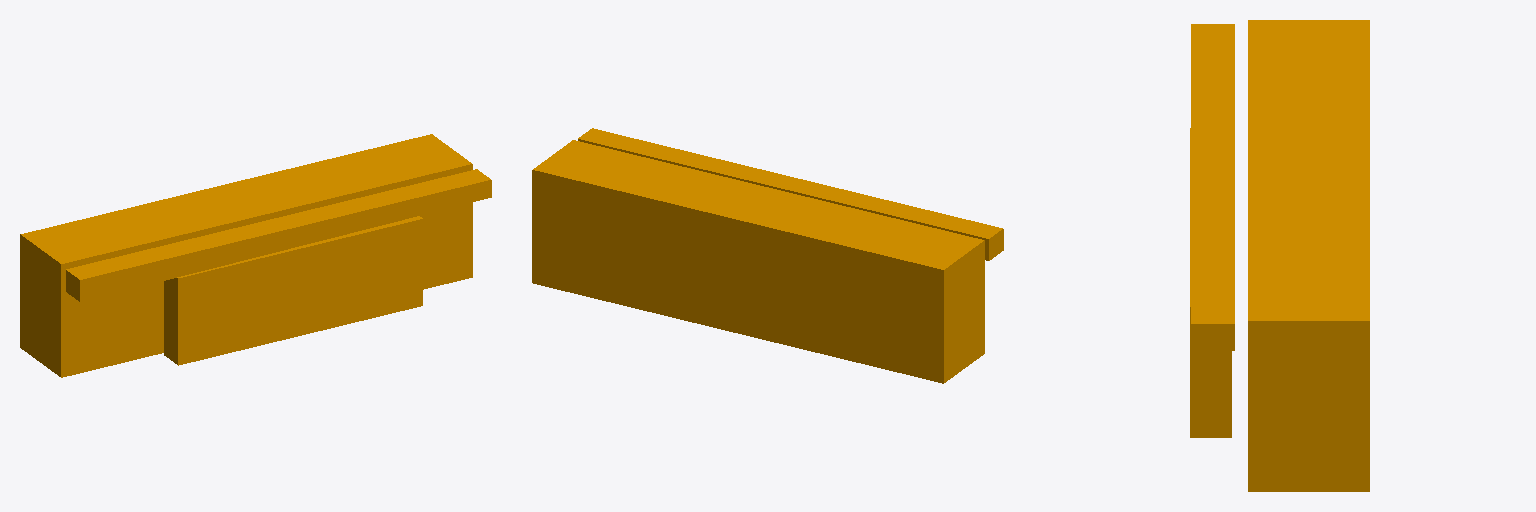
robot.urdf — Kinect_v2:
<?xml version="1.0"?>

<robot name="Kinect_v2">
  <link name="base_link">
    <visual>
      <geometry>
        <mesh filename="package://skeleton_description/model/kinect_v2/kinect_v2.dae"/>
      </geometry>
      <origin xyz="0.0 0.0 0.0" rpy="0.0 0.0 0.0"/>
    </visual>
  </link>
</robot>

--- What the picture shows (computed from the rendered views, not written in the file) ---
Views: 3 orthographic renders of the robot side by side, from view 1: azimuth 30°, elevation 25°; view 2: azimuth 150°, elevation 25°; view 3: azimuth 270°, elevation 25°.
Robot: Kinect_v2 — 1 links, 0 joints (none); root link base_link; default pose: every joint at zero.
Links seen in each view (by area): view 1: base_link; view 2: base_link; view 3: base_link.
Boxes of the visible links, box(x1,y1,x2,y2) form: base_link: box(20, 134, 491, 377); base_link: box(532, 128, 1003, 383); base_link: box(1190, 20, 1369, 491).
Size in the robot's own frame: 0.25 by 0.0632 by 0.066 metres.
1 mesh visuals loaded from 1 distinct referenced files (1 Collada DAE).